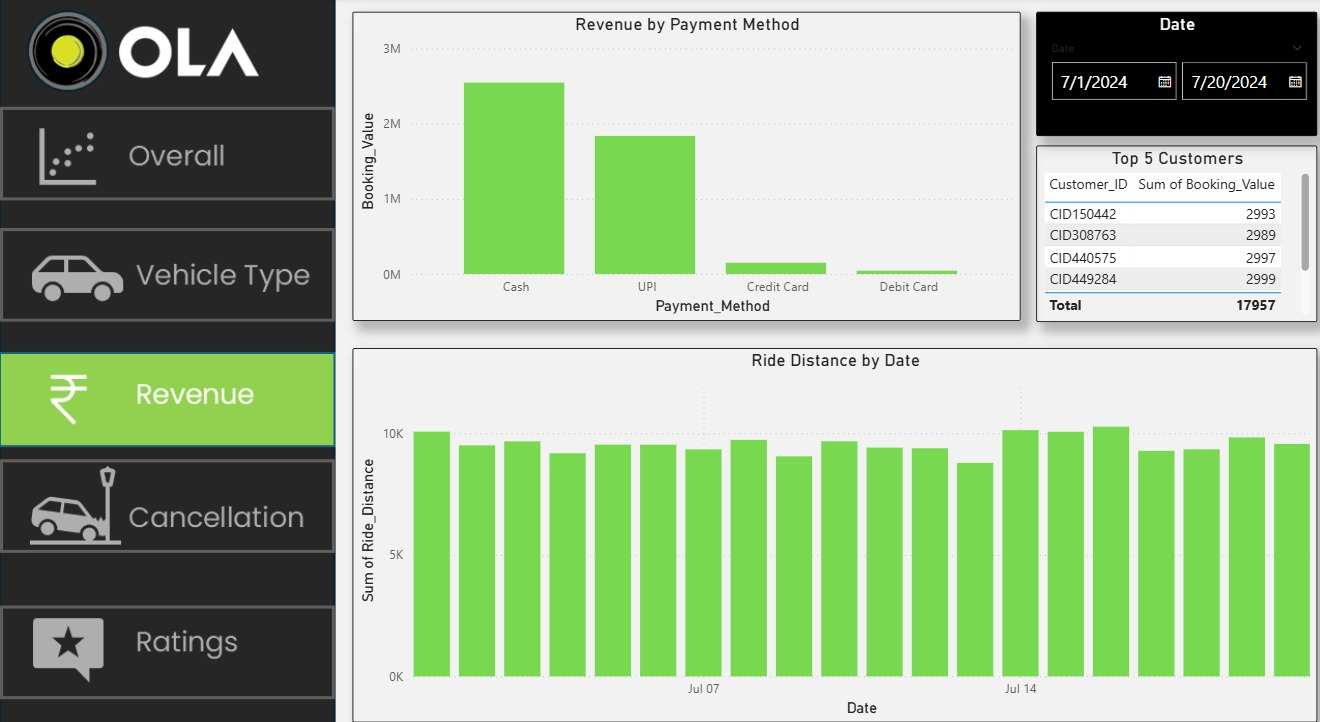

The dashboard page shown, as its layout file describes it:
{"tool":"powerbi","page":{"name":"Revenue","canvas":[1280,720],"ordinal":2},"visuals":[{"type":"actionButton","box":[0,222,323.3,90.5],"z":0},{"type":"actionButton","box":[0,445.2,323.3,90.5],"z":1000},{"type":"actionButton","box":[0,586.3,323.3,90.5],"z":2000},{"type":"actionButton","box":[0,105,323.3,90.5],"z":3000},{"type":"columnChart","title":"Revenue by Payment Method","fields":{"Category":["July.Payment_Method"],"Y":["Sum(July.Booking_Value)"]},"box":[340,13.8,645,298.8],"z":4000},{"type":"columnChart","title":"Ride Distance by Date","fields":{"Category":["July.Date"],"Y":["Sum(July.Ride_Distance)"]},"box":[340,337.5,931.2,362.5],"z":5000},{"type":"slicer","title":"Date","fields":{"Values":["July.Date"]},"box":[1000,13.8,271.2,120],"z":6000},{"type":"tableEx","title":"Top 5 Customers","fields":{"Values":["July.Customer_ID","Sum(July.Booking_Value)"]},"box":[1000,142.5,271.2,170],"z":7000}]}

Visuals, with their boxes in screenshot pixels (x1, y1, x2, y2), scaled from the page's 1280x720 canvas onto the 1320x722 screenshot:
actionButton: bbox=[0, 223, 333, 313]
actionButton: bbox=[0, 446, 333, 537]
actionButton: bbox=[0, 588, 333, 679]
actionButton: bbox=[0, 105, 333, 196]
"Revenue by Payment Method" columnChart: bbox=[351, 14, 1016, 313]
"Ride Distance by Date" columnChart: bbox=[351, 338, 1311, 702]
"Date" slicer: bbox=[1031, 14, 1311, 134]
"Top 5 Customers" tableEx: bbox=[1031, 143, 1311, 313]
